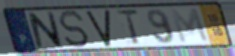9: (146, 8, 176, 46)
M: (168, 7, 211, 45)
N: (26, 11, 65, 49)
S: (56, 9, 92, 49)
T: (114, 9, 142, 47)
V: (85, 9, 113, 48)
